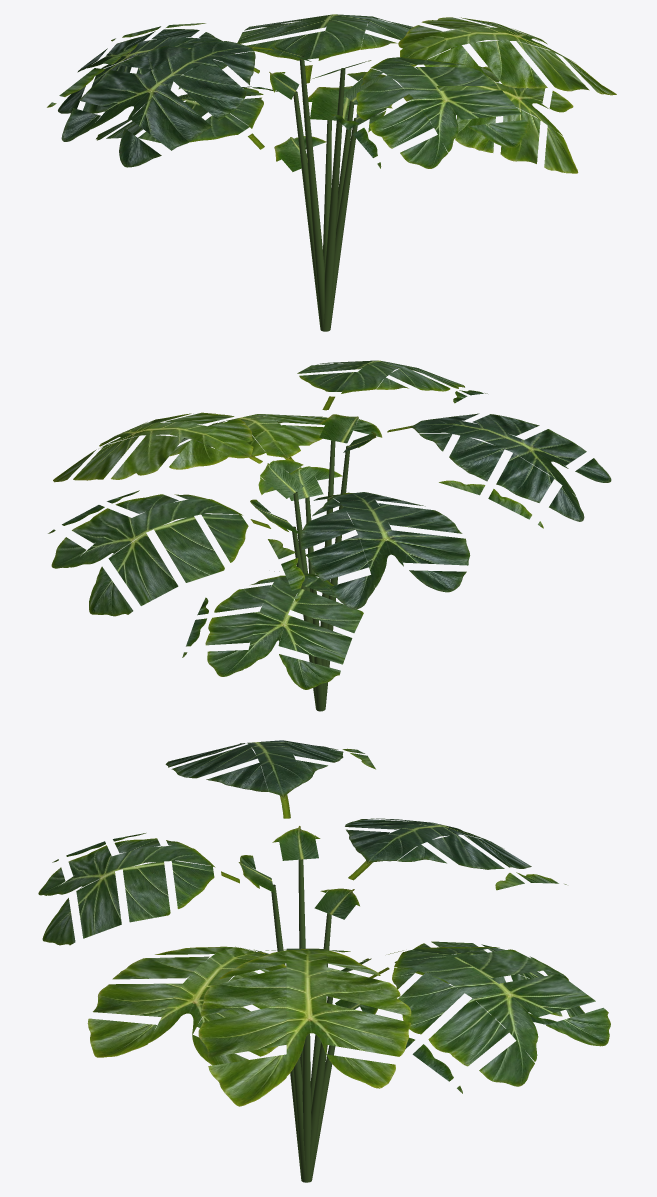
The model's file is split_leaf_02.glb.
3 renders of one model, top to bottom at view 1: azimuth 30°, elevation 25°; view 2: azimuth 150°, elevation 25°; view 3: azimuth 270°, elevation 25°, orthographic. The views are drawn at different scales.
Visible parts, largest first — view 1: split_leaf_02; view 2: split_leaf_02; view 3: split_leaf_02.
Part boxes in pixels (<box>): split_leaf_02: <box>47,14,616,331</box>; split_leaf_02: <box>48,360,611,711</box>; split_leaf_02: <box>38,740,610,1182</box>.
Size of the model in its own units: 2.56 by 1.37 by 2.24.
Materials: 2 (1 with a texture image).
